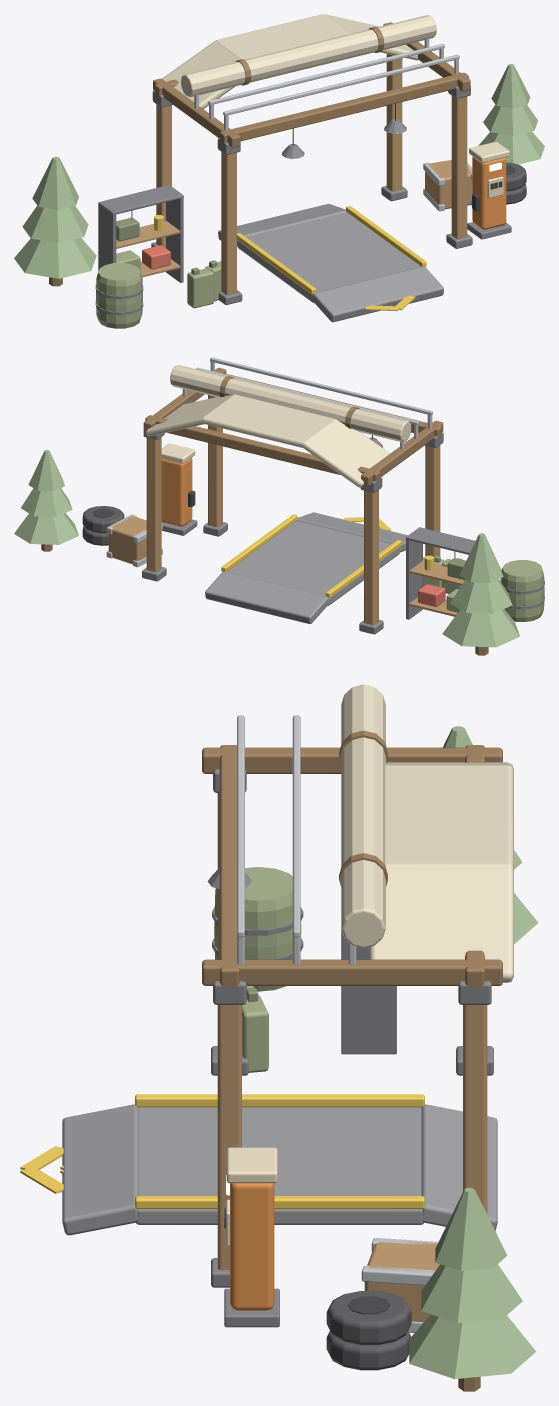
File: workshop_room.glb
The picture shows the model from 3 angles, top to bottom: view 1: azimuth 30°, elevation 25°; view 2: azimuth 150°, elevation 25°; view 3: azimuth 270°, elevation 25°; orthographic projection. The views are drawn at different scales.
Parts seen in each view (by area): view 1: MerchantShop; view 2: MerchantShop; view 3: MerchantShop.
Part boxes in pixels (box(x1,y1,x2,y2)): MerchantShop: box(14, 14, 544, 328); MerchantShop: box(14, 357, 544, 655); MerchantShop: box(20, 684, 538, 1391).
Bounding box in the file's own units: 10.24 × 3.87 × 4.65.
